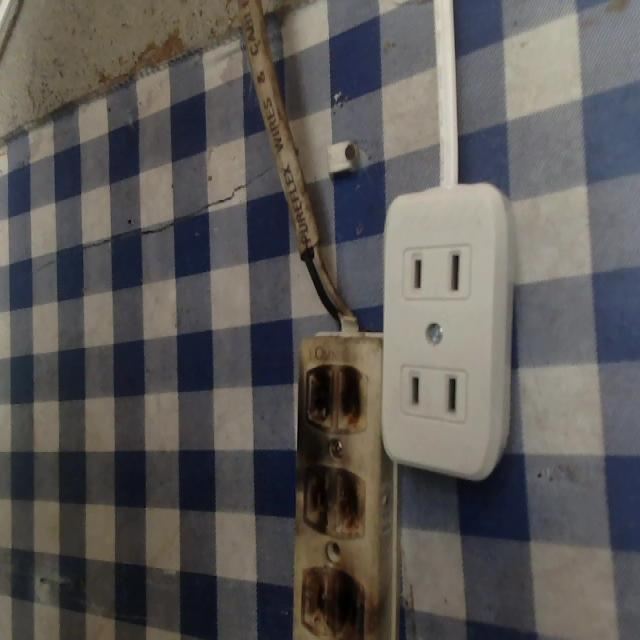-: (293, 461, 370, 543), (297, 557, 367, 639), (302, 360, 368, 436)
